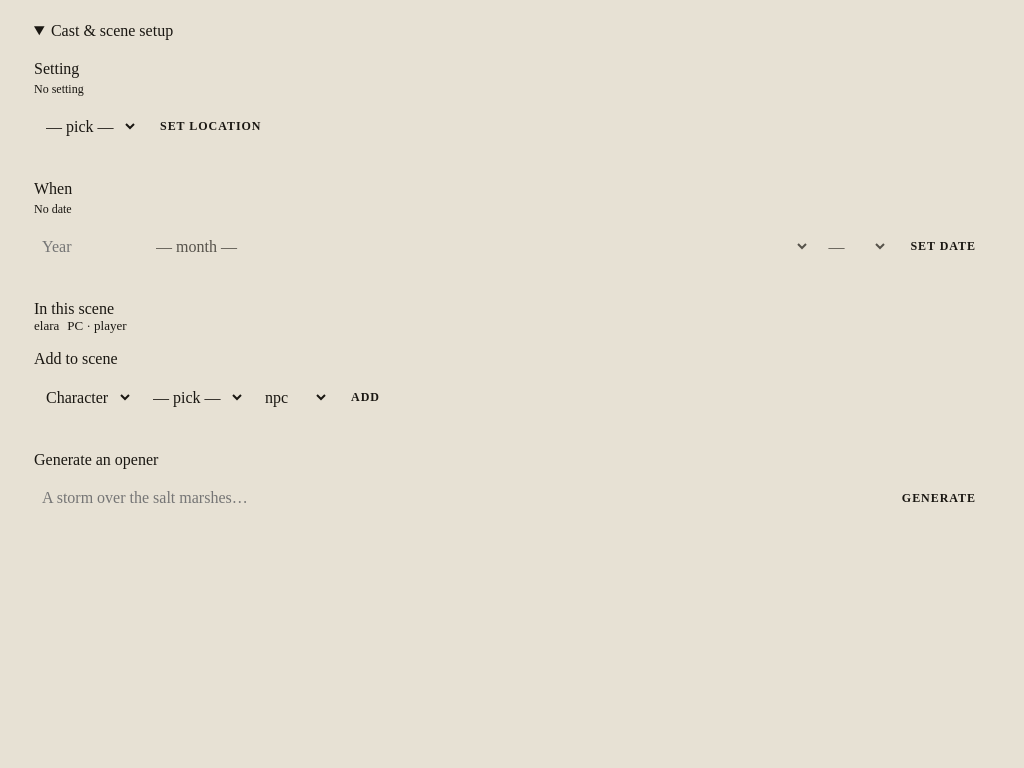
an opener the model could not be reached for offers the local-model recovery
Type "A foggy harbor" into the field named "Opener prompt". click: (457, 498)
box: x1=34 y1=481 x2=880 y2=515
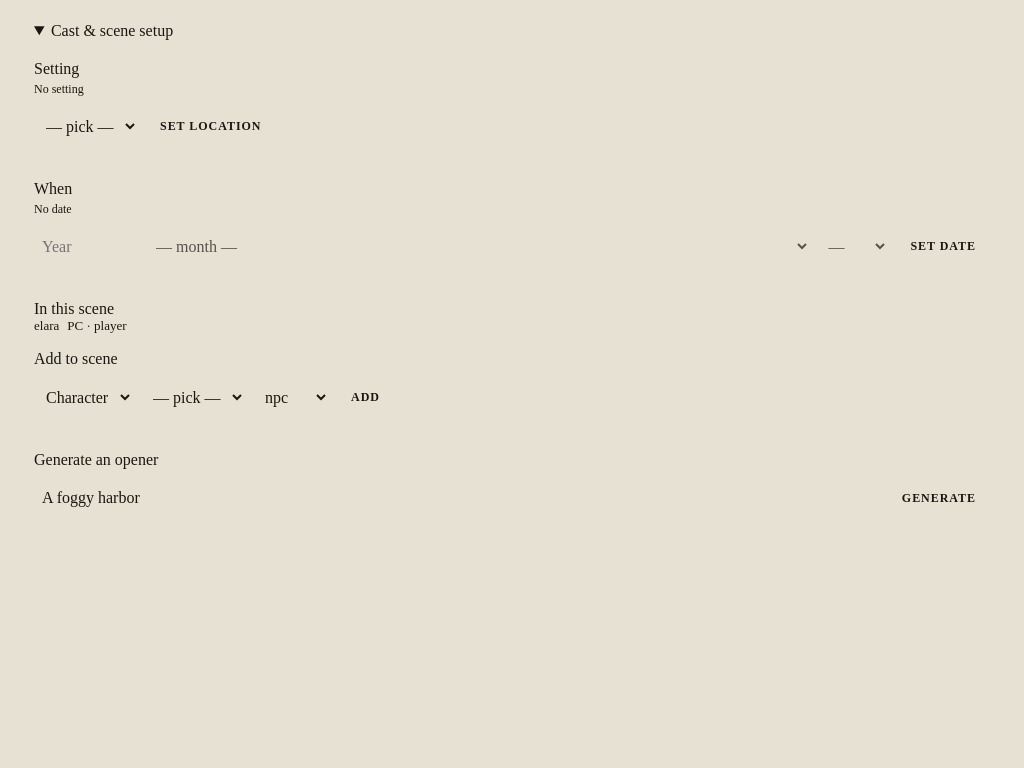
Click the button "Generate". click: (939, 498)
box: x1=888 y1=481 x2=990 y2=515
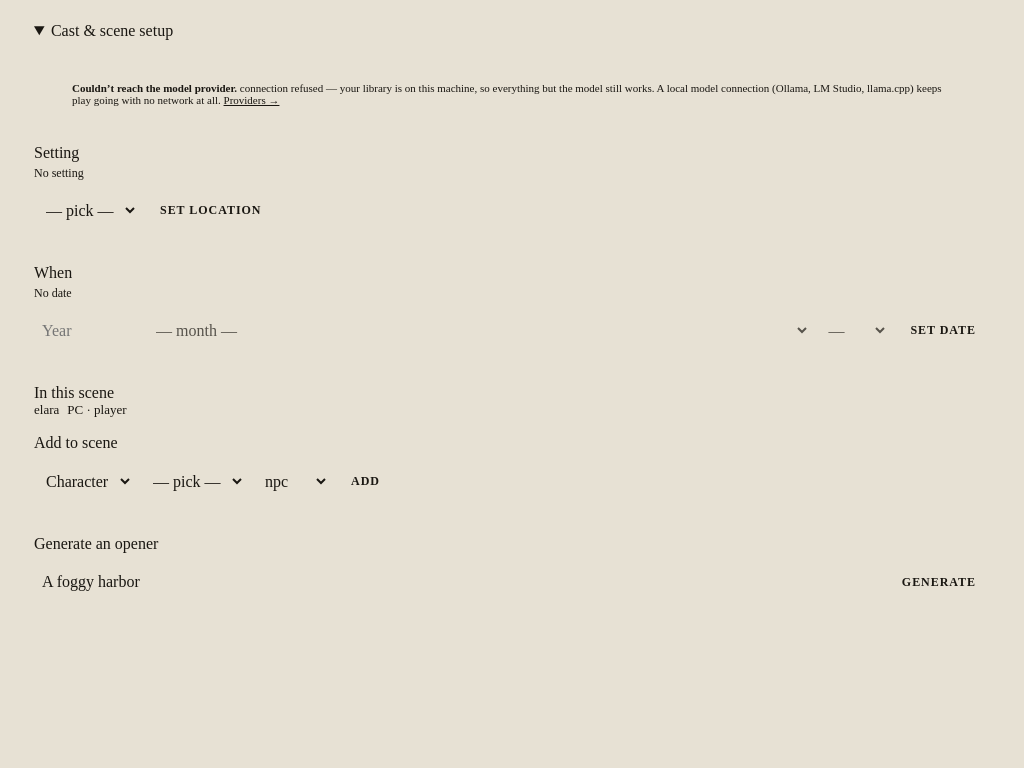
Expected: the text "Couldn’t reach the model provider." is shown, x1=72 y1=82 x2=237 y2=94
Expected: the text "connection refused" is shown, x1=240 y1=82 x2=323 y2=94
